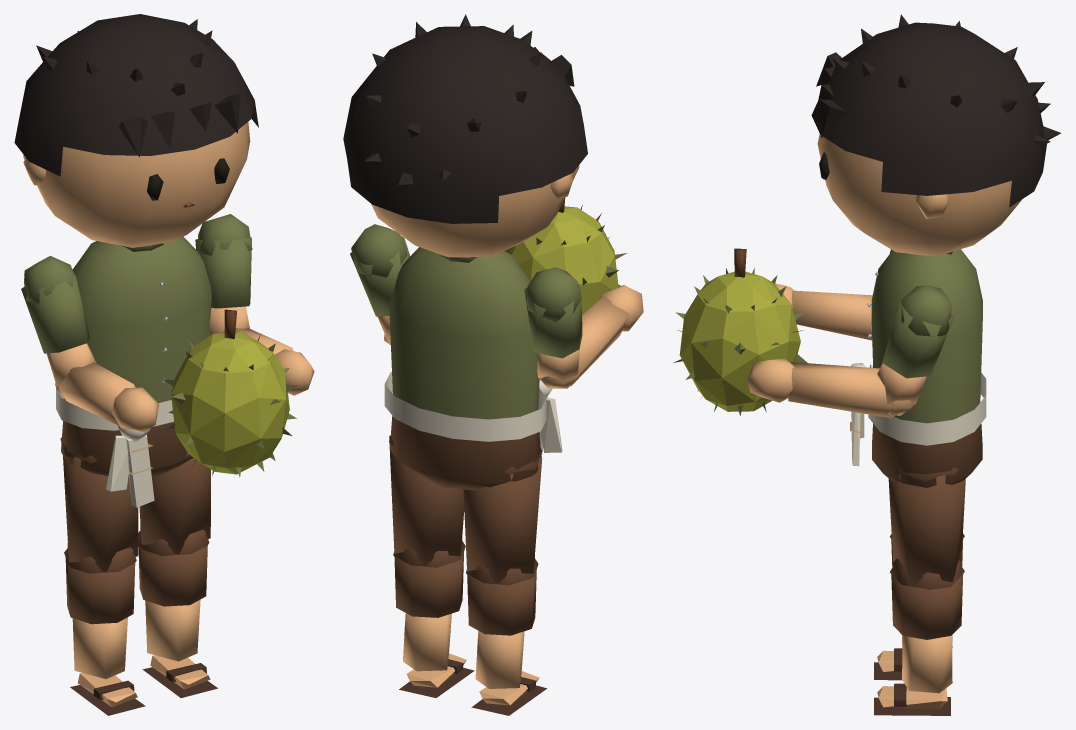
The model's file is east_durian_man.glb.
3 renders of one model, left to right at view 1: azimuth 30°, elevation 25°; view 2: azimuth 150°, elevation 25°; view 3: azimuth 270°, elevation 25°, orthographic.
Parts seen in each view (by area): view 1: head, body, prop_durian, shin_L, shin_R, leg_R, arm_R, leg_L, arm_L, forearm_R, forearm_L; view 2: head, body, shin_R, shin_L, leg_R, leg_L, prop_durian, arm_R, arm_L, forearm_R; view 3: head, body, prop_durian, shin_L, leg_L, forearm_L, arm_L, forearm_R, shin_R.
Part boxes in pixels (x1,y1,x2,y2): head: (14, 14, 258, 247); body: (56, 236, 211, 507); prop_durian: (163, 309, 298, 477); shin_L: (138, 525, 217, 697); shin_R: (65, 543, 145, 715); leg_R: (60, 437, 138, 573); arm_R: (21, 256, 96, 403); leg_L: (138, 457, 210, 556); arm_L: (195, 214, 252, 335); forearm_R: (56, 362, 159, 432); forearm_L: (222, 328, 314, 395); head: (343, 14, 587, 257); body: (384, 247, 562, 490); shin_R: (467, 556, 546, 715); shin_L: (394, 538, 474, 697); leg_R: (463, 448, 542, 585); leg_L: (389, 435, 465, 567); prop_durian: (504, 198, 626, 314); arm_R: (524, 267, 582, 388); arm_L: (350, 224, 410, 345); forearm_R: (537, 285, 643, 386); head: (811, 14, 1061, 255); body: (850, 249, 986, 487); prop_durian: (673, 248, 807, 415); shin_L: (874, 558, 963, 715); leg_L: (888, 466, 965, 589); forearm_L: (747, 358, 914, 418); arm_L: (877, 285, 954, 415); forearm_R: (775, 283, 872, 340); shin_R: (874, 539, 963, 680).
Size of the model in its own units: 0.5176 by 1.47 by 0.7926.
